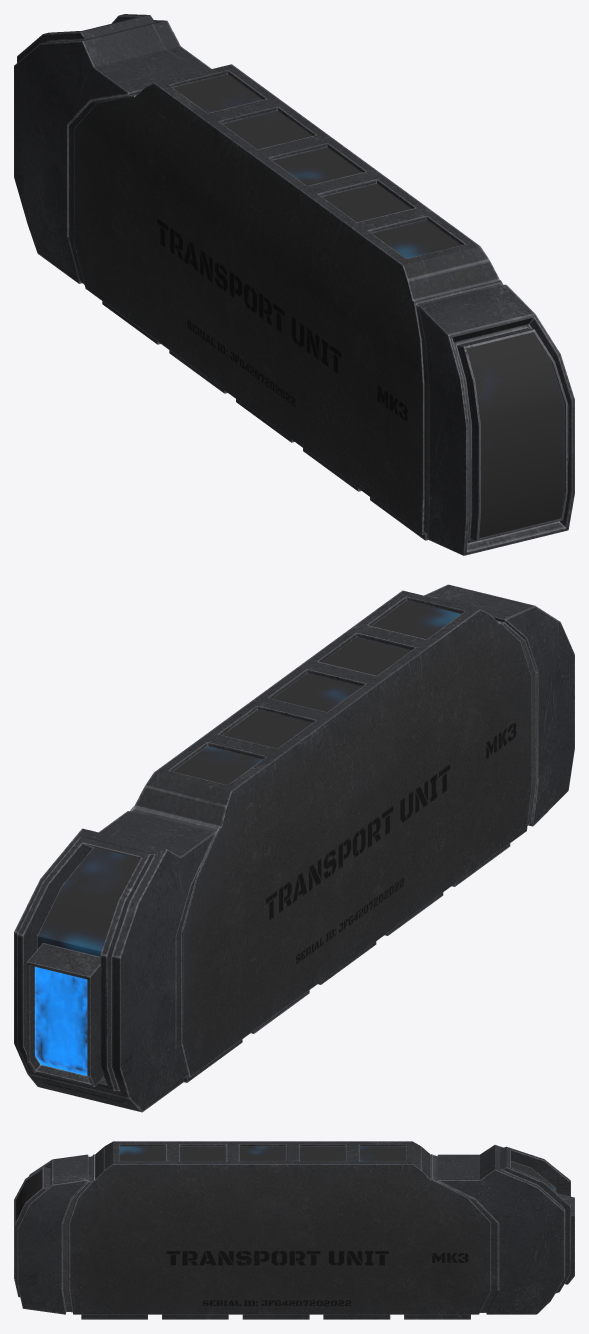
Rendered from floating_ship.glb.
3 renders of one model, top to bottom at view 1: azimuth 30°, elevation 25°; view 2: azimuth 150°, elevation 25°; view 3: azimuth 270°, elevation 25°, orthographic. The views are drawn at different scales.
Visible parts, largest first — view 1: SM_FloatingCyberShip_JFG_low; view 2: SM_FloatingCyberShip_JFG_low; view 3: SM_FloatingCyberShip_JFG_low.
Part boxes in pixels (x1,y1,x2,y2): SM_FloatingCyberShip_JFG_low: (14, 14, 574, 555); SM_FloatingCyberShip_JFG_low: (14, 584, 574, 1112); SM_FloatingCyberShip_JFG_low: (14, 1141, 574, 1319).
Size of the model in its own units: 2957 by 6628 by 21875.
1 material, 1 textured.
